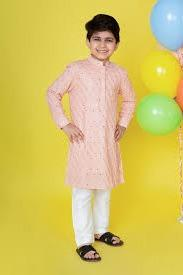Human: (50, 10, 148, 260)
